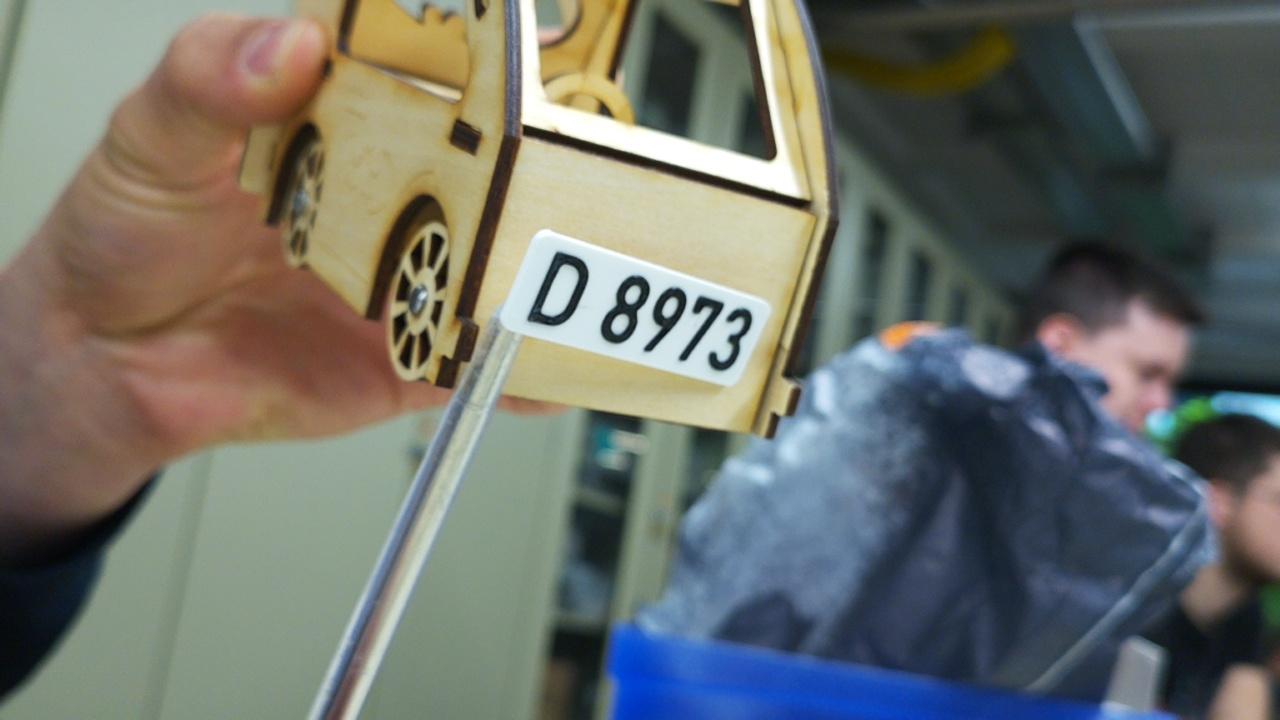license_plate: (498, 226, 775, 387)
